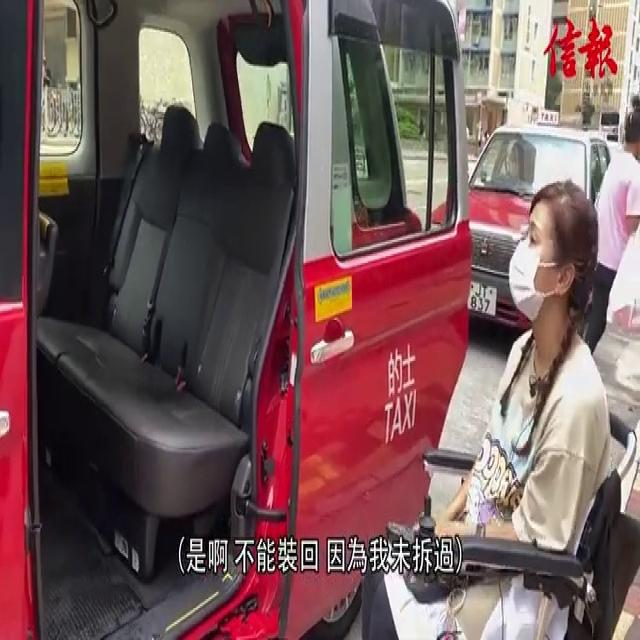wheelchairs: (380, 374, 640, 640)
